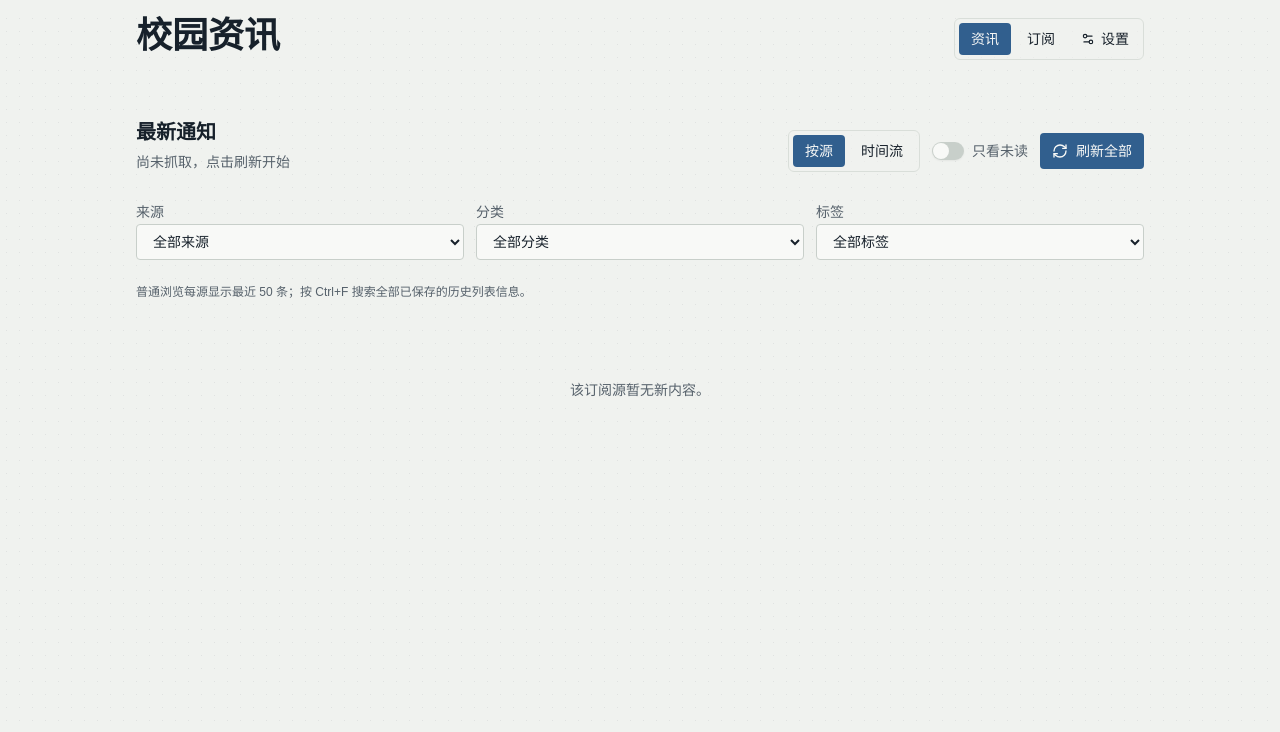
campus-feed view (source/tag/unread filters) › clears a previous refresh error after a later successful refresh
Expected: the heading "最新通知" is shown, [136,116,216,148]
Click the button "刷新全部" at (1092, 151), box [1040,133,1144,169]
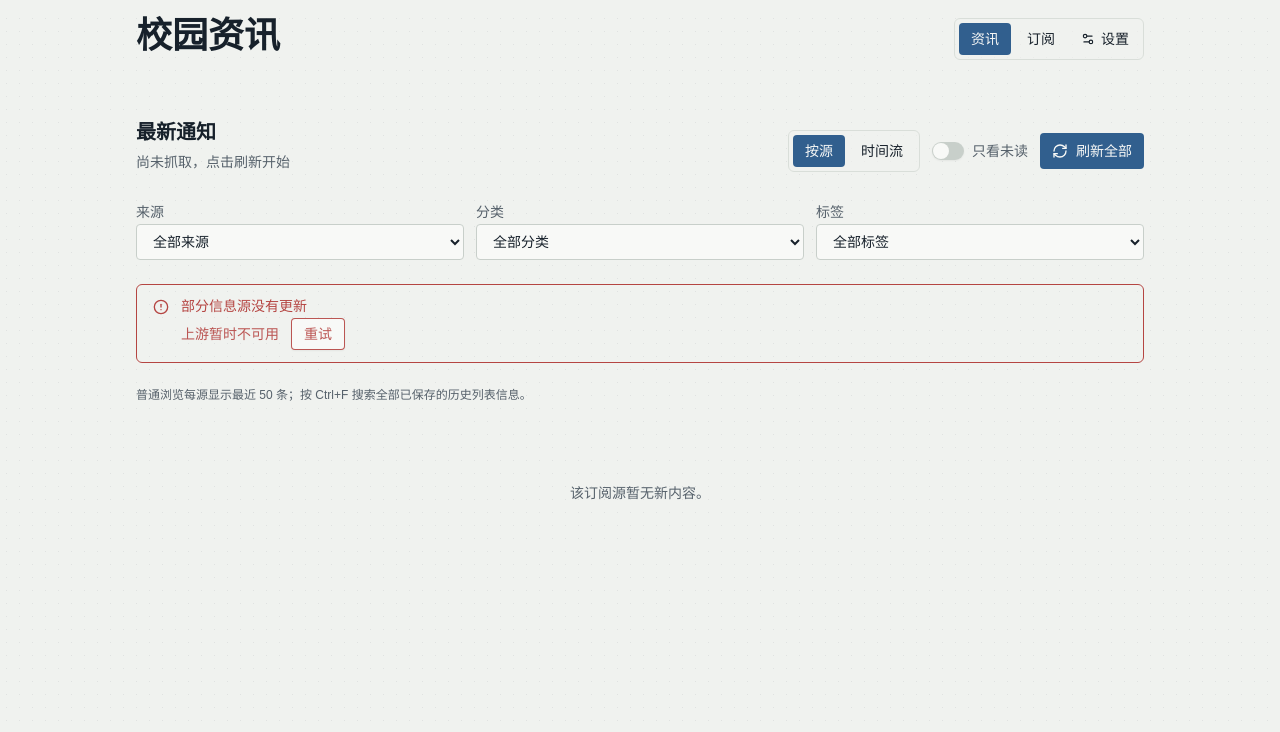
Expected: the text "部分信息源没有更新" is shown, [181,298,307,314]
Click the button "刷新全部" at (1092, 151), box [1040,133,1144,169]
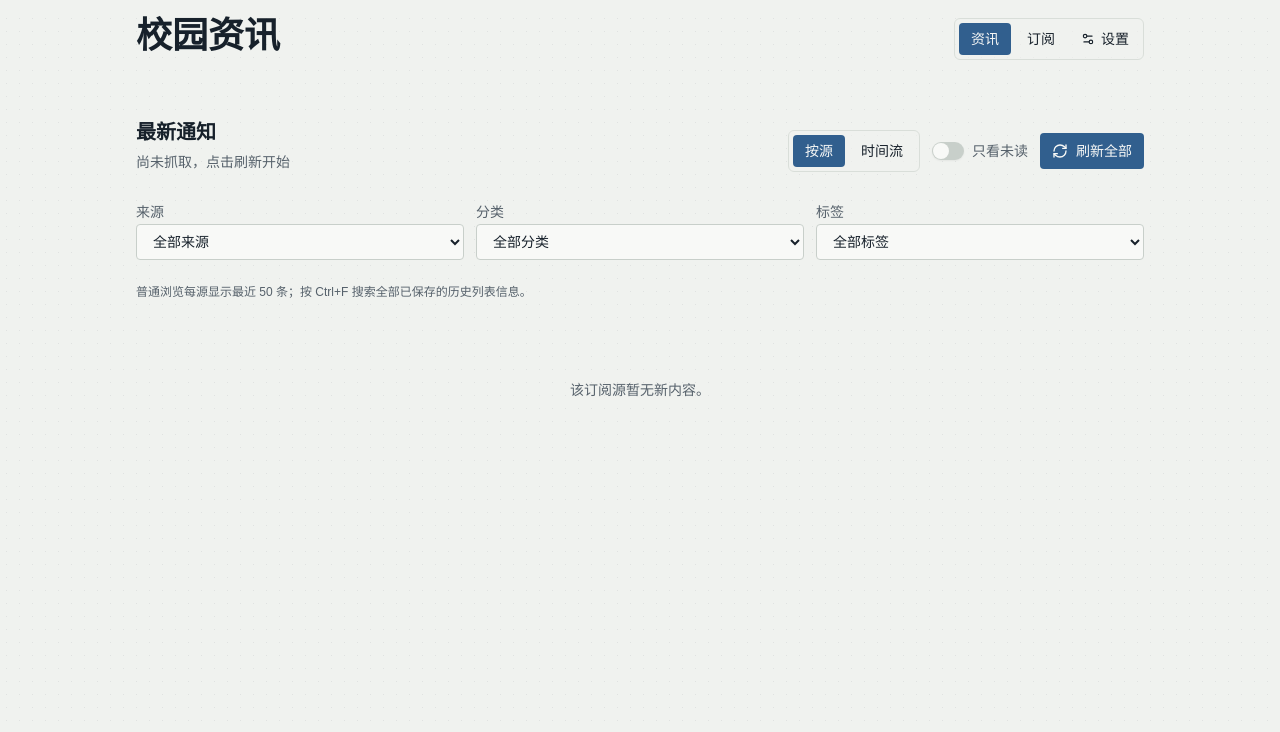
Expected: the text "部分信息源没有更新" is gone
